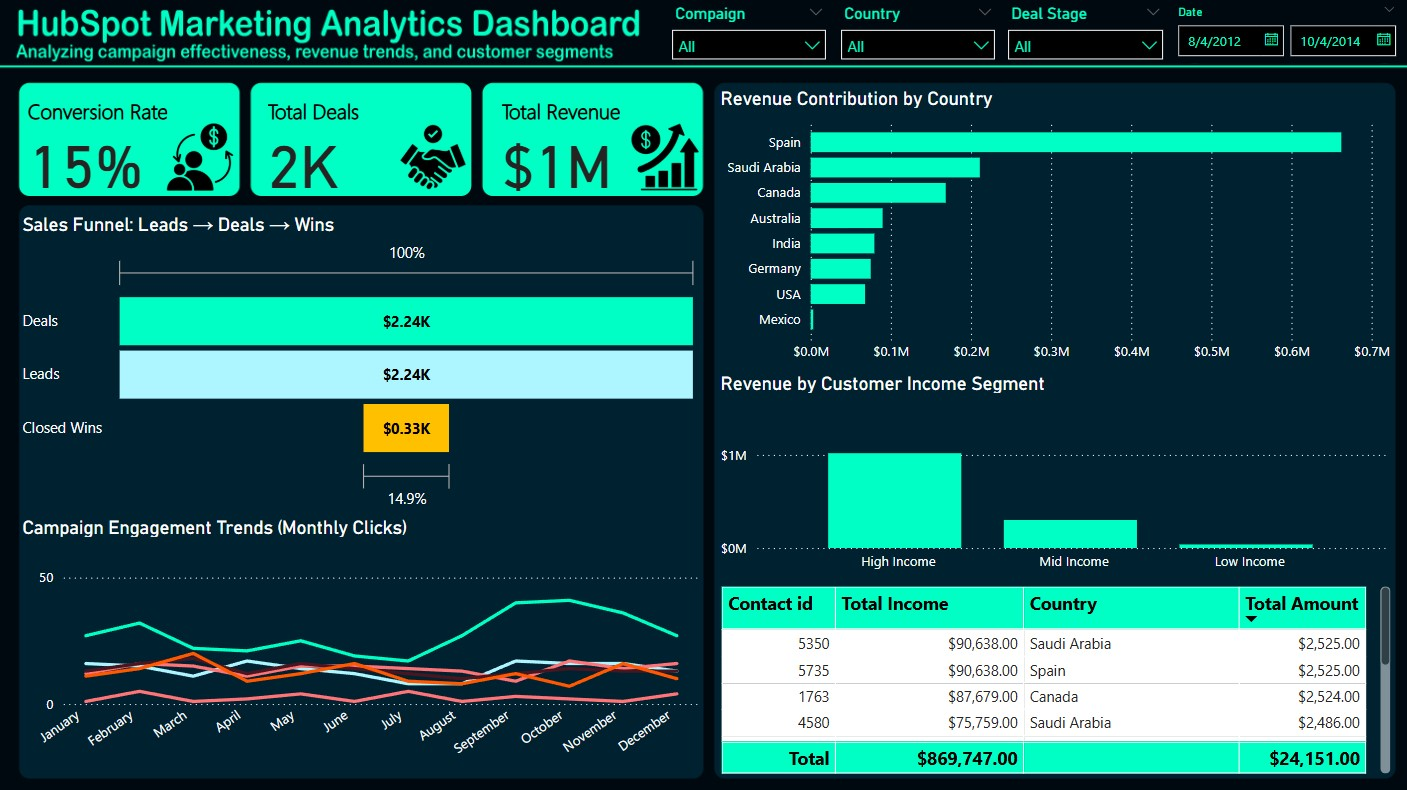

This screenshot's page, from the dashboard's own definition file:
{"tool":"powerbi","page":{"name":"Page 1","canvas":[1280,720],"ordinal":0},"visuals":[{"type":"funnel","title":"Sales Funnel: Leads → Deals → Wins","fields":{"Category":["FunnelStages.Stage"],"Y":["FunnelStages.FunnelValue"]},"box":[15.6,193.3,624.4,276.7],"z":0},{"type":"clusteredBarChart","title":"Revenue Contribution by Country","fields":{"Category":["hubspot contacts.country"],"Y":["Sum(hubspot deals.amount)"]},"box":[650,80,618.9,258.9],"z":1000},{"type":"tableEx","fields":{"Values":["hubspot contacts.contact_id","Sum(hubspot contacts.income)","hubspot contacts.country","Sum(hubspot deals.amount)"]},"box":[650,528.9,618.9,180],"z":2000},{"type":"lineChart","title":"Campaign Engagement Trends (Monthly Clicks)","fields":{"Category":["hubspot emails.send_date.Variation.Date Hierarchy.Month"],"Y":["Sum(hubspot emails.clicks)"],"Series":["hubspot emails.campaign_name"]},"box":[15.6,470,624.4,238.9],"z":3000},{"type":"clusteredColumnChart","title":"Revenue by Customer Income Segment","fields":{"Category":["hubspot contacts.IncomeSegment"],"Y":["Sum(hubspot deals.amount)"]},"box":[650,338.9,618.9,190],"z":4000},{"type":"cardVisual","fields":{"Data":["hubspot deals.Overall Conversion Rate"]},"box":[7.8,72.2,218.9,121.1],"z":5000},{"type":"cardVisual","fields":{"Data":["hubspot deals.Total Deals"]},"box":[226.7,72.2,202.2,121.1],"z":6000},{"type":"cardVisual","fields":{"Data":["hubspot deals.Total Revenue"]},"box":[438.9,72.2,201.1,121.1],"z":7000},{"type":"image","box":[357.8,107.8,71.1,71.1],"z":8000},{"type":"image","box":[568.9,107.8,71.1,71.1],"z":9000},{"type":"image","box":[146.7,107.8,71.1,71.1],"z":10000},{"type":"slicer","fields":{"Values":["hubspot deals.close_date"]},"box":[1057.8,0,222.2,58.9],"z":11000},{"type":"slicer","fields":{"Values":["hubspot deals.deal_stage"]},"box":[906.7,0,161.1,58.9],"z":12000},{"type":"slicer","fields":{"Values":["hubspot contacts.country"]},"box":[754.4,0,160,58.9],"z":13000},{"type":"slicer","fields":{"Values":["hubspot emails.campaign_name"]},"box":[601.1,0,160,58.9],"z":14000}]}

Visuals, with their boxes in screenshot pixels (x1, y1, x2, y2), scaled from the page's 1280x720 canvas onto the 1407x790 screenshot:
"Sales Funnel: Leads → Deals → Wins" funnel: [x1=17, y1=212, x2=704, y2=516]
"Revenue Contribution by Country" clusteredBarChart: [x1=714, y1=88, x2=1395, y2=372]
tableEx - hubspot contacts.contact_id x Sum(hubspot contacts.income): [x1=714, y1=580, x2=1395, y2=778]
"Campaign Engagement Trends (Monthly Clicks)" lineChart: [x1=17, y1=516, x2=704, y2=778]
"Revenue by Customer Income Segment" clusteredColumnChart: [x1=714, y1=372, x2=1395, y2=580]
cardVisual - hubspot deals.Overall Conversion Rate: [x1=9, y1=79, x2=249, y2=212]
cardVisual - hubspot deals.Total Deals: [x1=249, y1=79, x2=471, y2=212]
cardVisual - hubspot deals.Total Revenue: [x1=482, y1=79, x2=704, y2=212]
image: [x1=393, y1=118, x2=471, y2=196]
image: [x1=625, y1=118, x2=704, y2=196]
image: [x1=161, y1=118, x2=239, y2=196]
slicer - hubspot deals.close_date: [x1=1163, y1=0, x2=1406, y2=65]
slicer - hubspot deals.deal_stage: [x1=997, y1=0, x2=1174, y2=65]
slicer - hubspot contacts.country: [x1=829, y1=0, x2=1005, y2=65]
slicer - hubspot emails.campaign_name: [x1=661, y1=0, x2=837, y2=65]
